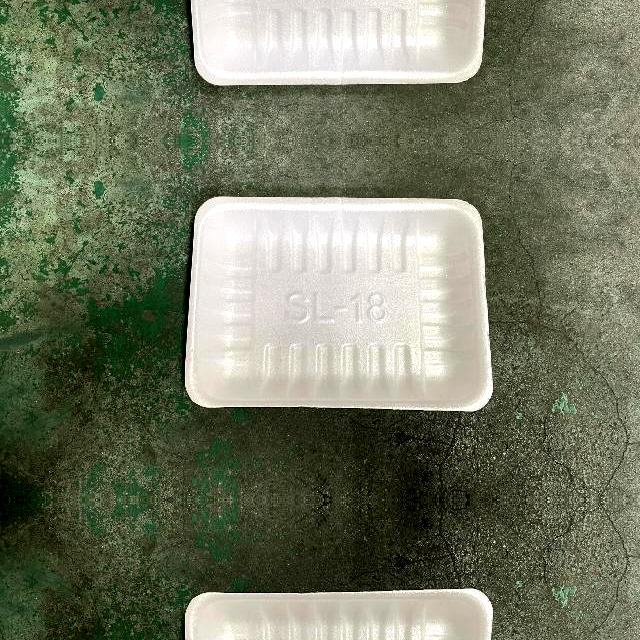Styrofoam: (185, 195, 493, 411), (185, 195, 491, 412), (185, 0, 491, 84), (190, 0, 486, 85), (185, 585, 491, 640), (185, 587, 493, 640)
